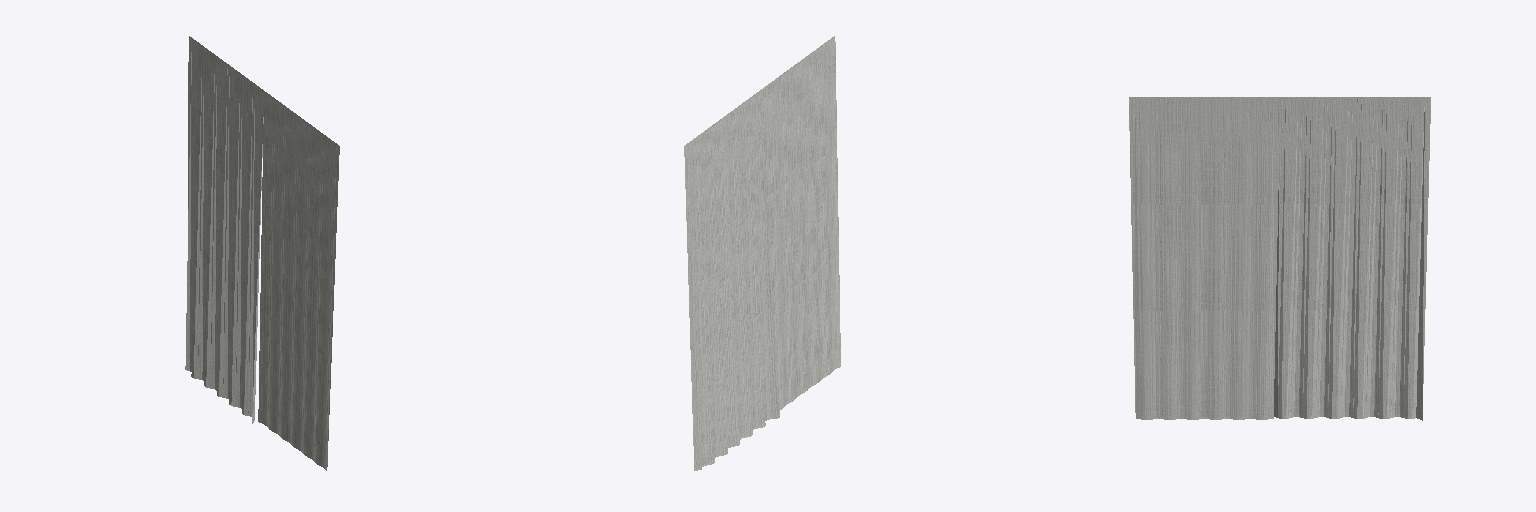
3 views of the same model, side by side, from view 1: azimuth 30°, elevation 25°; view 2: azimuth 150°, elevation 25°; view 3: azimuth 270°, elevation 25° (orthographic).
Visible parts, largest first — view 1: Cortina2:pasted__CORTINA_MOVIBLE2; view 2: Cortina2:pasted__CORTINA_MOVIBLE2; view 3: Cortina2:pasted__CORTINA_MOVIBLE2.
Part boxes in pixels (left/top/right/bottom): Cortina2:pasted__CORTINA_MOVIBLE2: left=185, top=36, right=339, bottom=470; Cortina2:pasted__CORTINA_MOVIBLE2: left=684, top=36, right=840, bottom=470; Cortina2:pasted__CORTINA_MOVIBLE2: left=1129, top=97, right=1430, bottom=420.
Bounding box in the file's own units: 0.1197 × 2.27 × 1.91.
Materials: 1 (1 with a texture image).